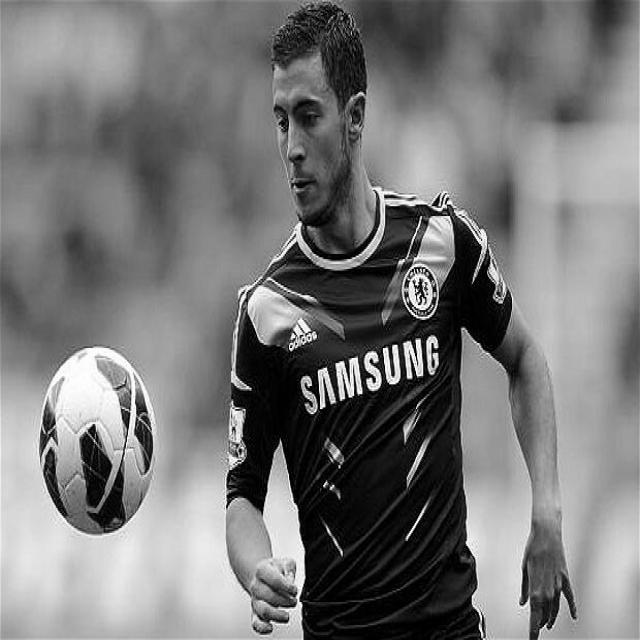football: (38, 348, 157, 538)
